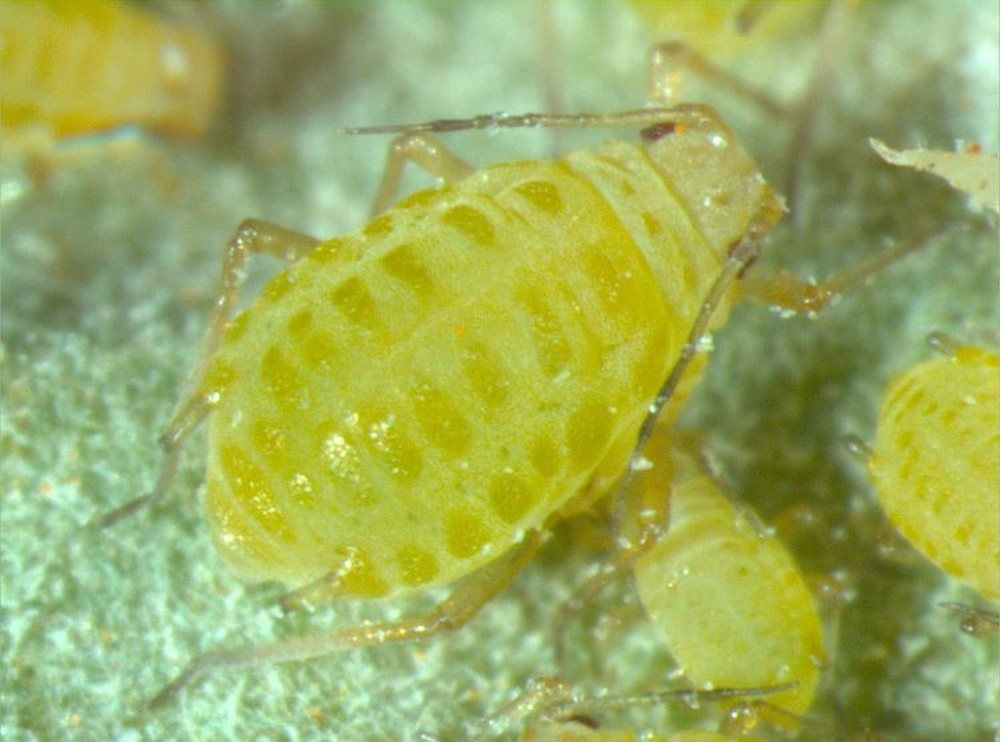Pulgon: (130, 48, 872, 635), (576, 407, 876, 728)
